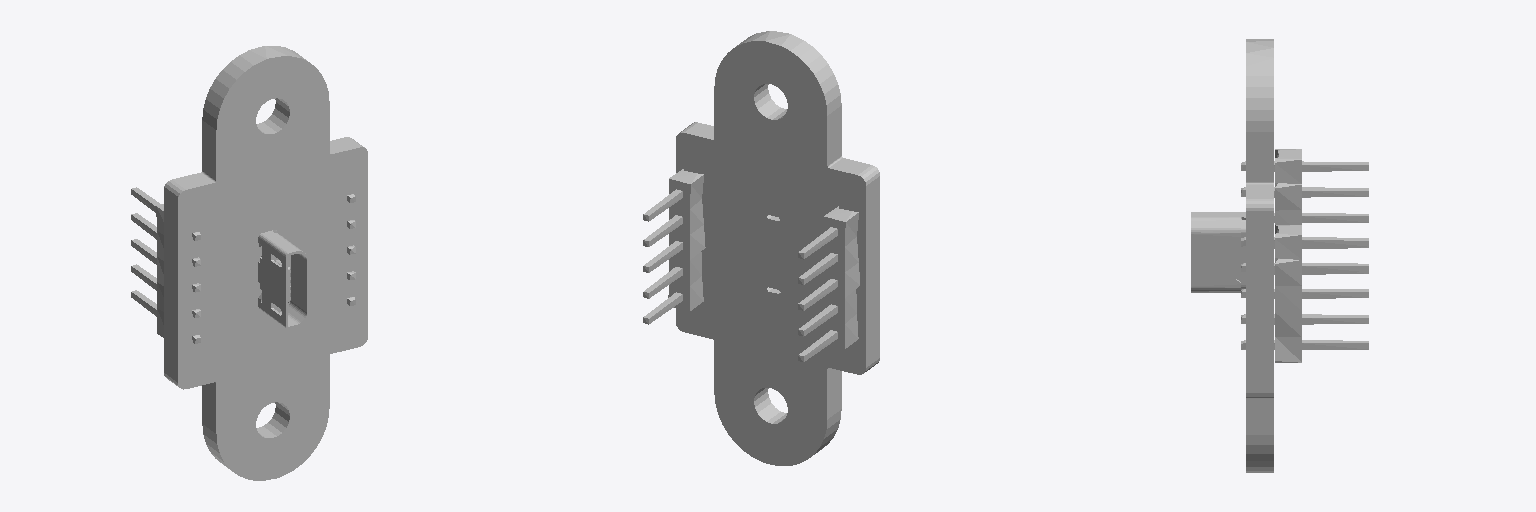
File: OBJ_PCB_USB micro B Vert breakout.obj
3 renders of one model, left to right at view 1: azimuth 30°, elevation 25°; view 2: azimuth 150°, elevation 25°; view 3: azimuth 270°, elevation 25°, orthographic.
Bounding box in the file's own units: 77.54 × 164 × 62.65.